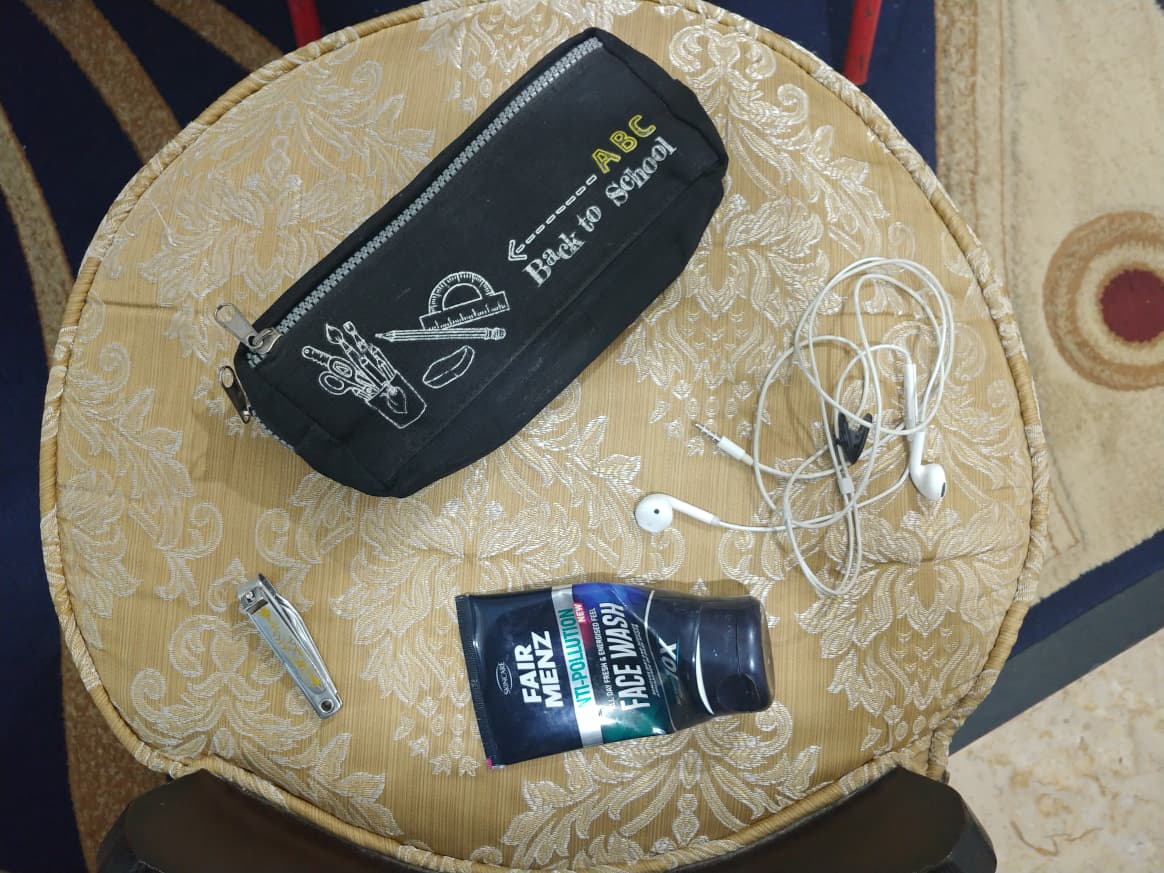Earphones: (627, 246, 1025, 587)
Facewash: (403, 573, 783, 768)
Geometry box: (166, 25, 754, 501)
Nail cutter: (179, 555, 357, 733)
